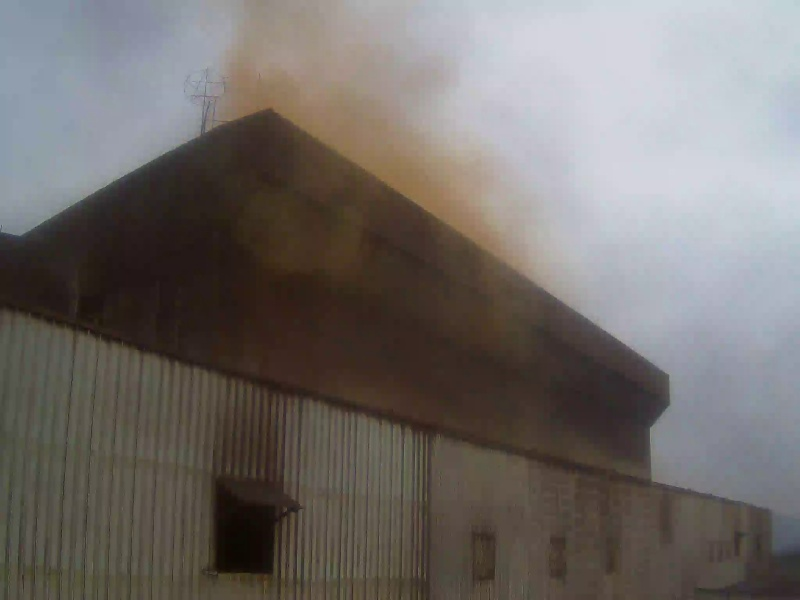Galpao: (1, 231, 667, 600)
Janela: (210, 474, 294, 585)
Pessimo: (292, 80, 411, 117), (411, 162, 469, 197), (329, 119, 393, 147), (382, 150, 437, 174), (440, 197, 486, 223), (484, 223, 530, 249)
